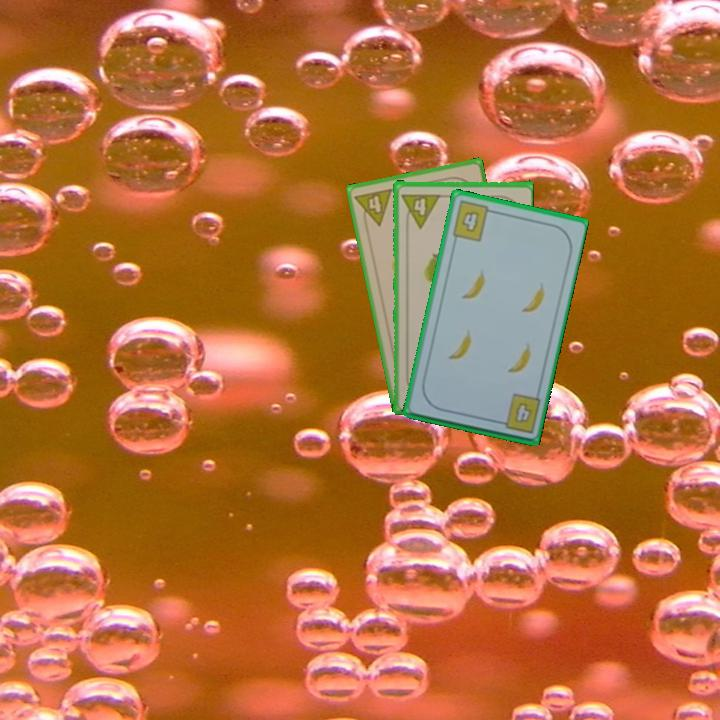4b: (448, 197, 497, 244), (493, 390, 543, 436)
4p: (351, 185, 395, 231), (397, 190, 442, 229)
